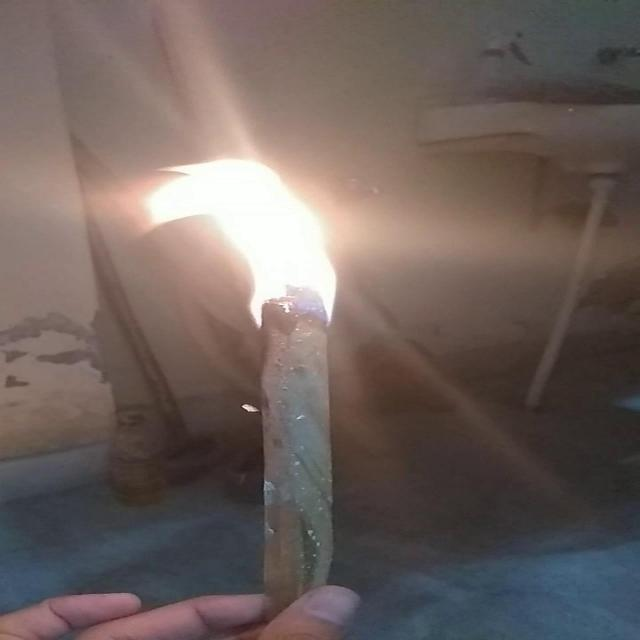fire: (130, 155, 377, 321)
